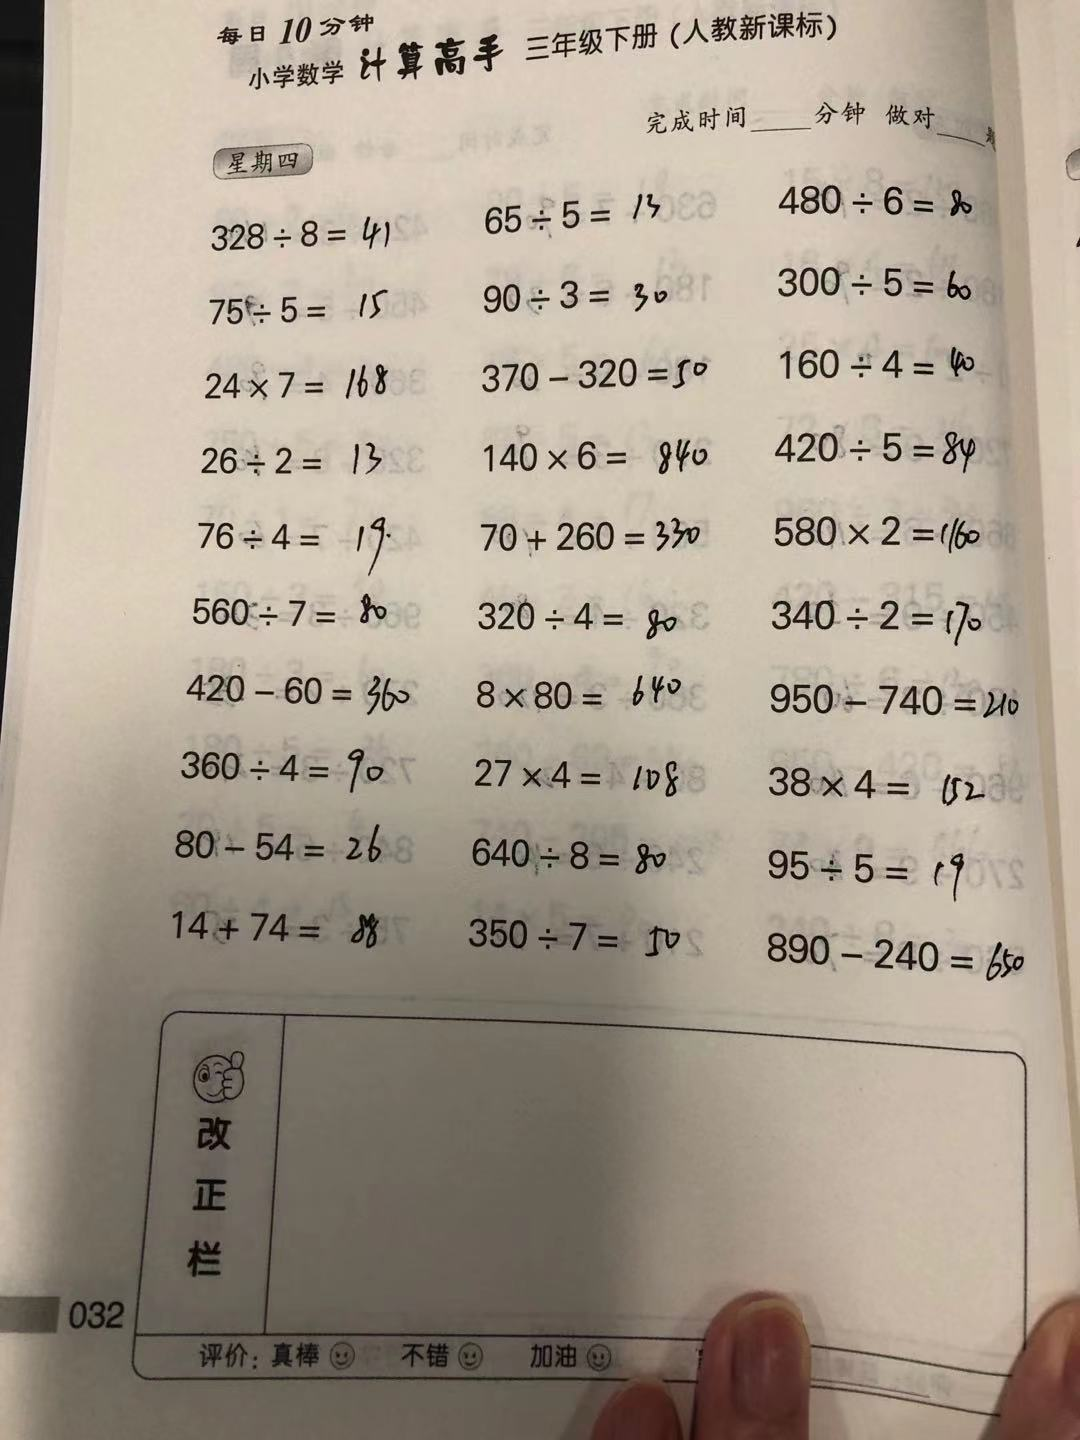equation: (756, 924, 1045, 990), (171, 507, 411, 579), (157, 895, 405, 962), (745, 841, 996, 907), (453, 587, 714, 647), (171, 662, 410, 727), (170, 813, 408, 878), (754, 759, 1009, 818), (748, 676, 1036, 727), (453, 662, 708, 719), (470, 345, 728, 399), (450, 513, 711, 565), (447, 752, 708, 804), (765, 259, 996, 316), (174, 738, 402, 796), (759, 510, 1011, 561), (456, 915, 694, 968), (476, 268, 697, 324), (461, 828, 691, 881), (776, 175, 993, 230), (761, 425, 1002, 475), (761, 593, 990, 645), (172, 359, 408, 407), (185, 213, 405, 264), (467, 435, 727, 478), (767, 342, 1011, 388), (193, 282, 402, 334), (185, 590, 400, 639), (182, 430, 387, 478), (473, 196, 685, 238)
